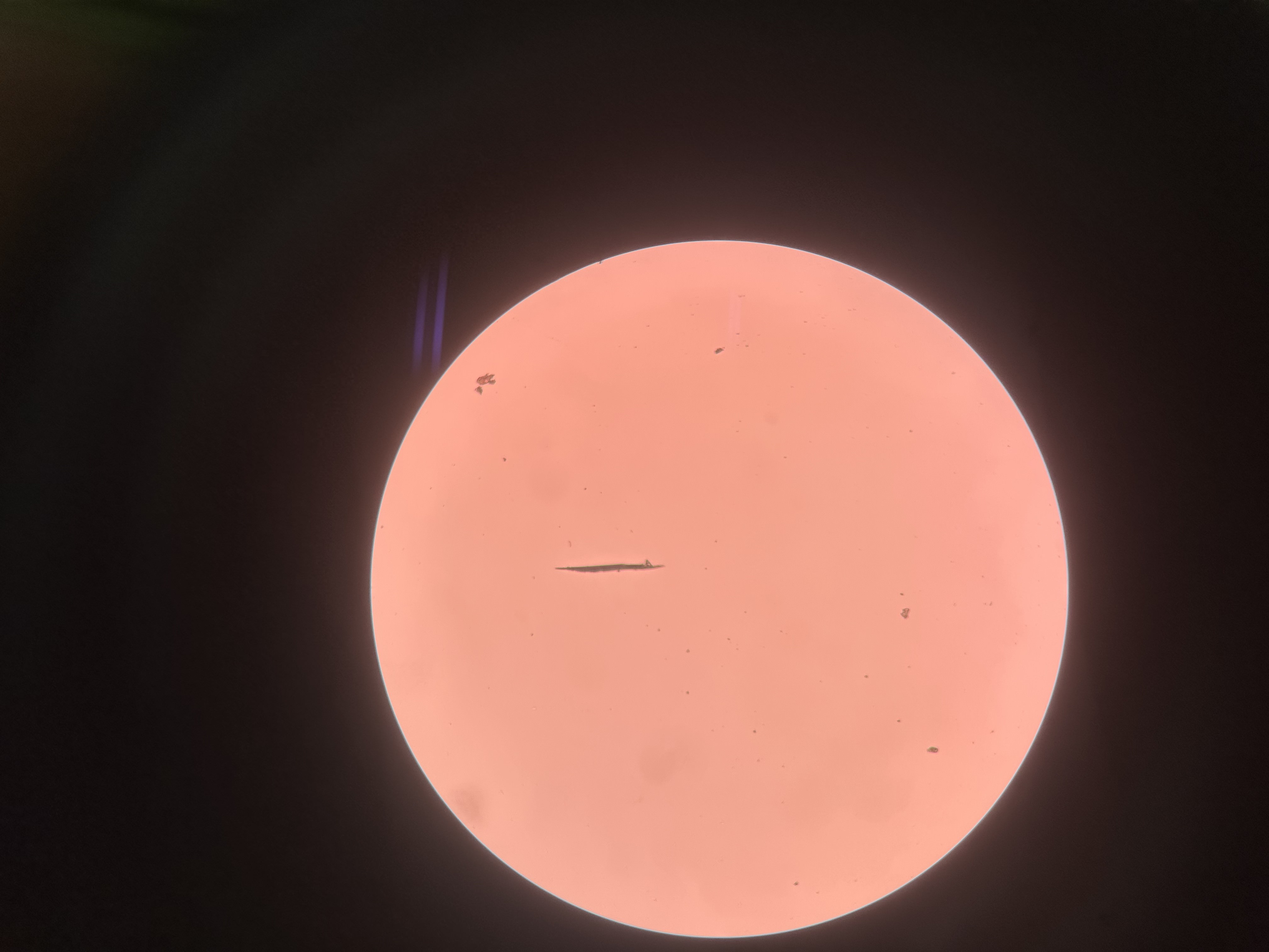not_microplastic: (557, 556, 666, 581), (472, 373, 499, 393)
